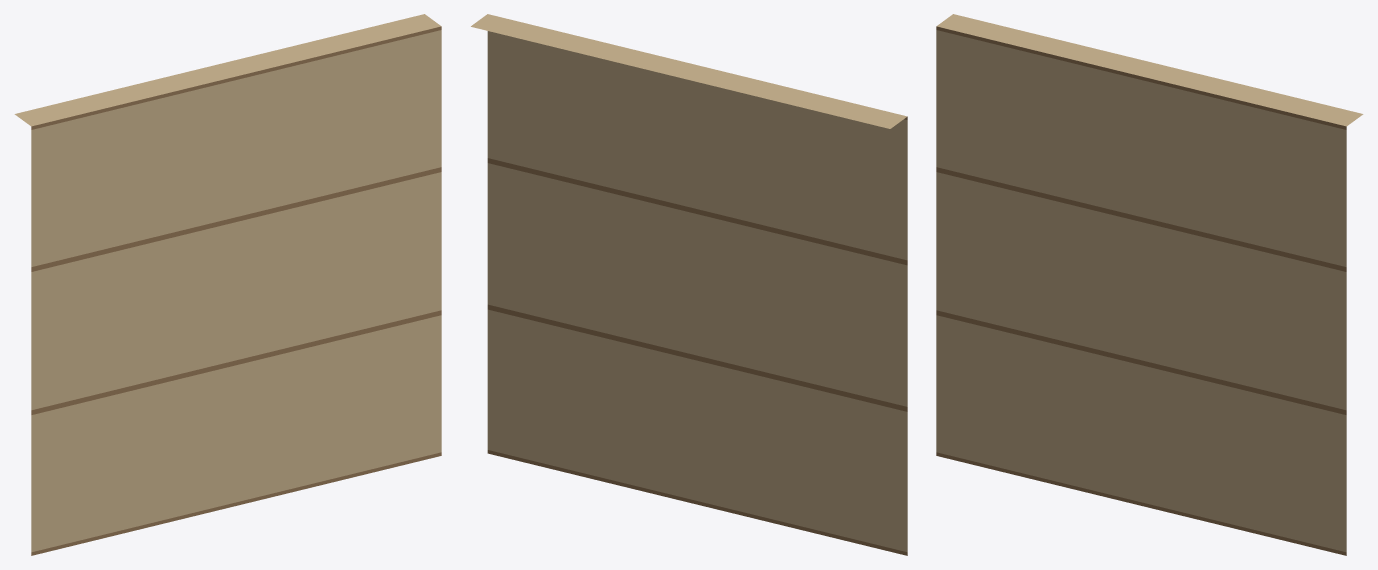
Rendered from M_WallTile350-1Biege80.FBX.
3 views of the same model, side by side, from view 1: azimuth 30°, elevation 25°; view 2: azimuth 150°, elevation 25°; view 3: azimuth 330°, elevation 25° (orthographic). The views are drawn at different scales.
Parts seen in each view (by area): view 1: M_WallTile350-1Biege80; view 2: M_WallTile350-1Biege80; view 3: M_WallTile350-1Biege80.
Boxes of the visible parts, box(x1,y1,x2,y2) form: M_WallTile350-1Biege80: box(14, 14, 441, 555); M_WallTile350-1Biege80: box(471, 14, 907, 555); M_WallTile350-1Biege80: box(936, 14, 1363, 555).
Bounding box in the file's own units: 3.5 × 3.5 × 0.25.
